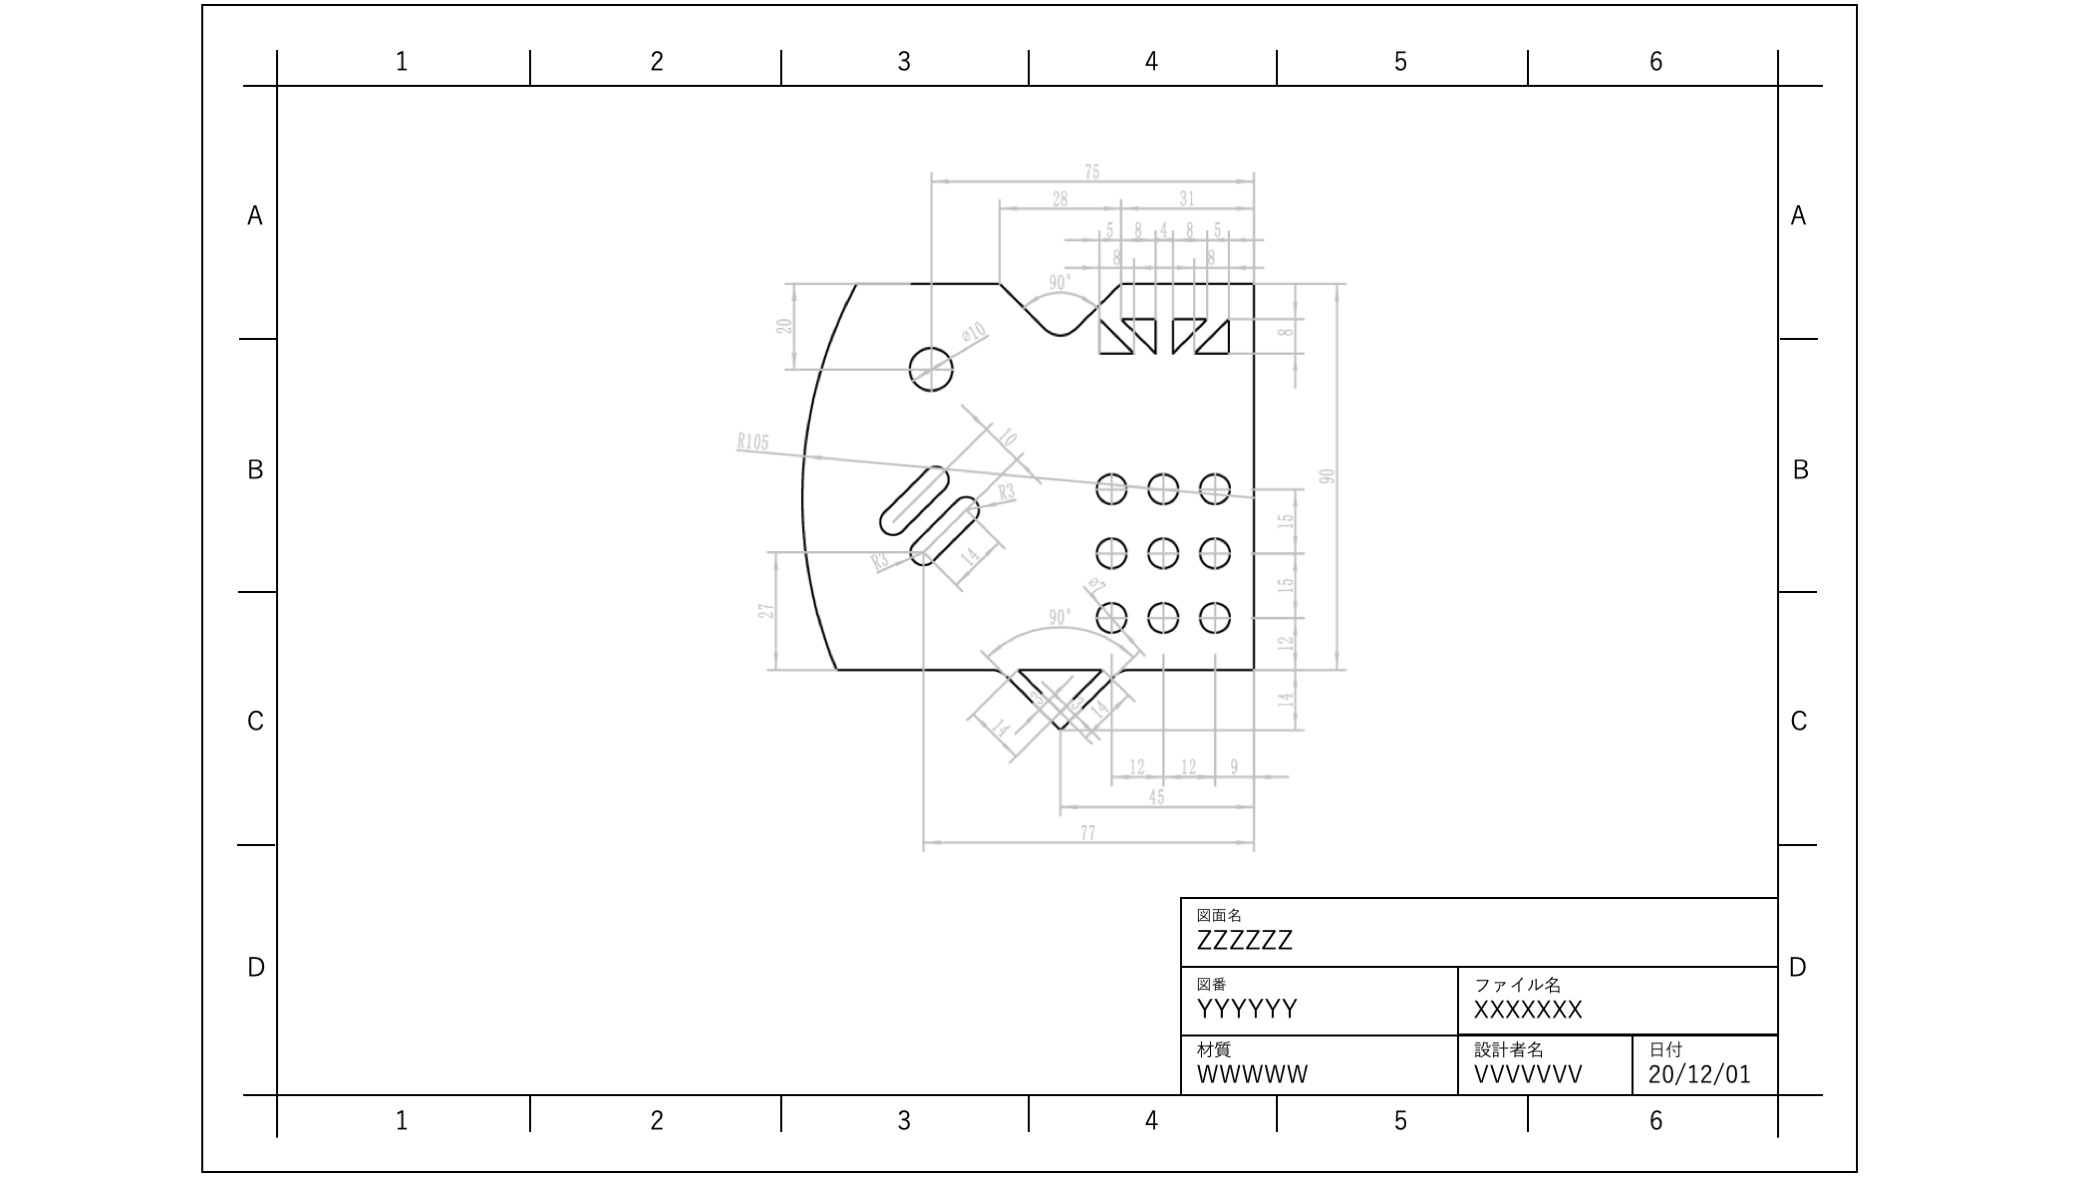circle: (903, 340, 956, 398), (1142, 523, 1186, 570), (1090, 464, 1132, 509), (1194, 463, 1235, 508), (1141, 593, 1186, 633), (1090, 525, 1129, 571), (1089, 593, 1135, 632), (1197, 525, 1235, 572), (1199, 591, 1235, 636), (1147, 464, 1183, 508)
round_rectangle: (870, 457, 953, 538), (907, 487, 987, 570)
triangle: (1011, 660, 1108, 730), (1170, 301, 1209, 358), (1124, 301, 1160, 358), (1196, 313, 1240, 358), (1093, 314, 1139, 358)
